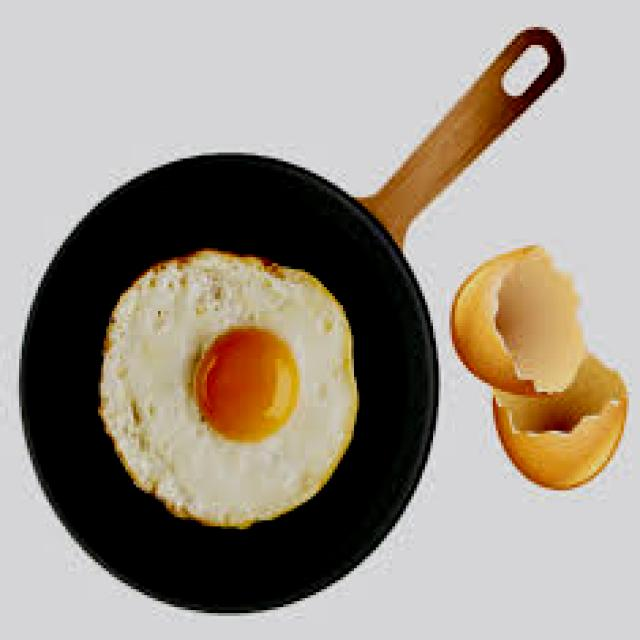telur ceplok: (98, 248, 359, 532)
